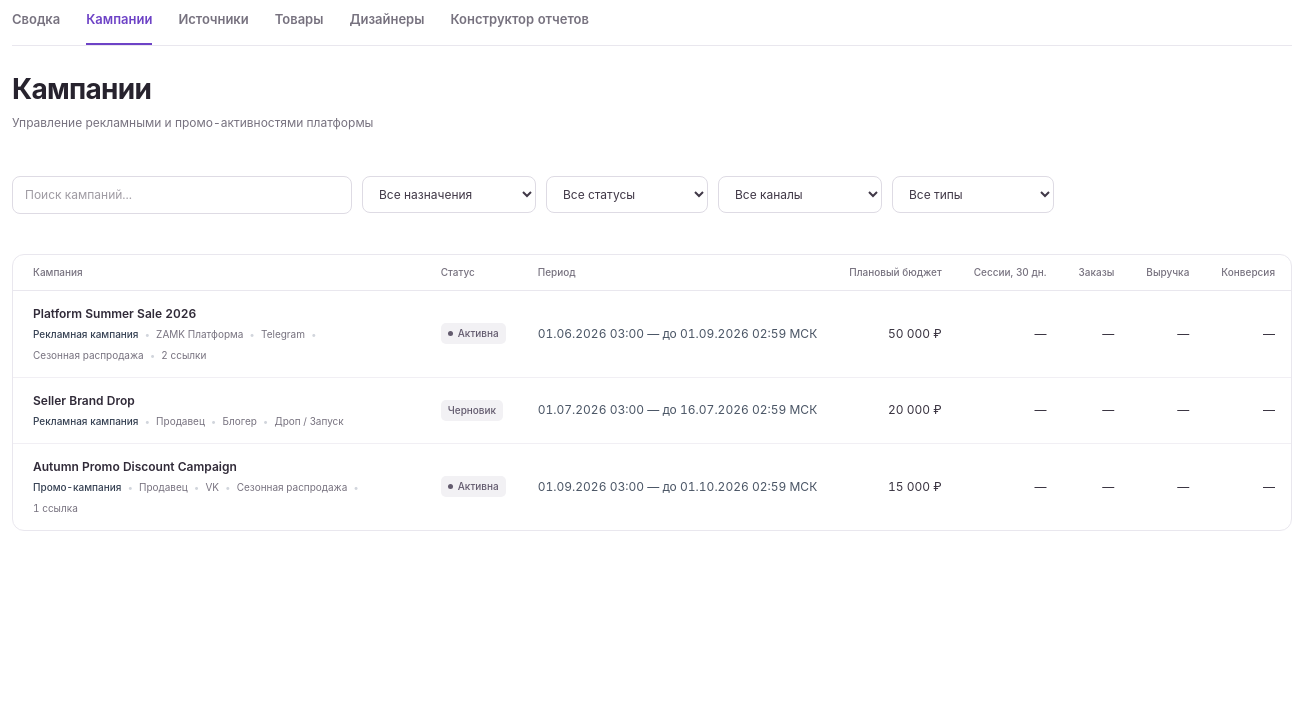
Admin Marketing Operational Workspace (ADS.2A / C2.4) › Campaign List (AdminMarketingCampaigns) › filters compose: search, purpose, status, channel, and type
The image size is (1292, 720).
Expected: the link "Platform Summer Sale 2026" is shown, [33,306,196,321]
# Filter by search
Type "seller" into the search field. click: (182, 195)
box: [12,176,352,214]
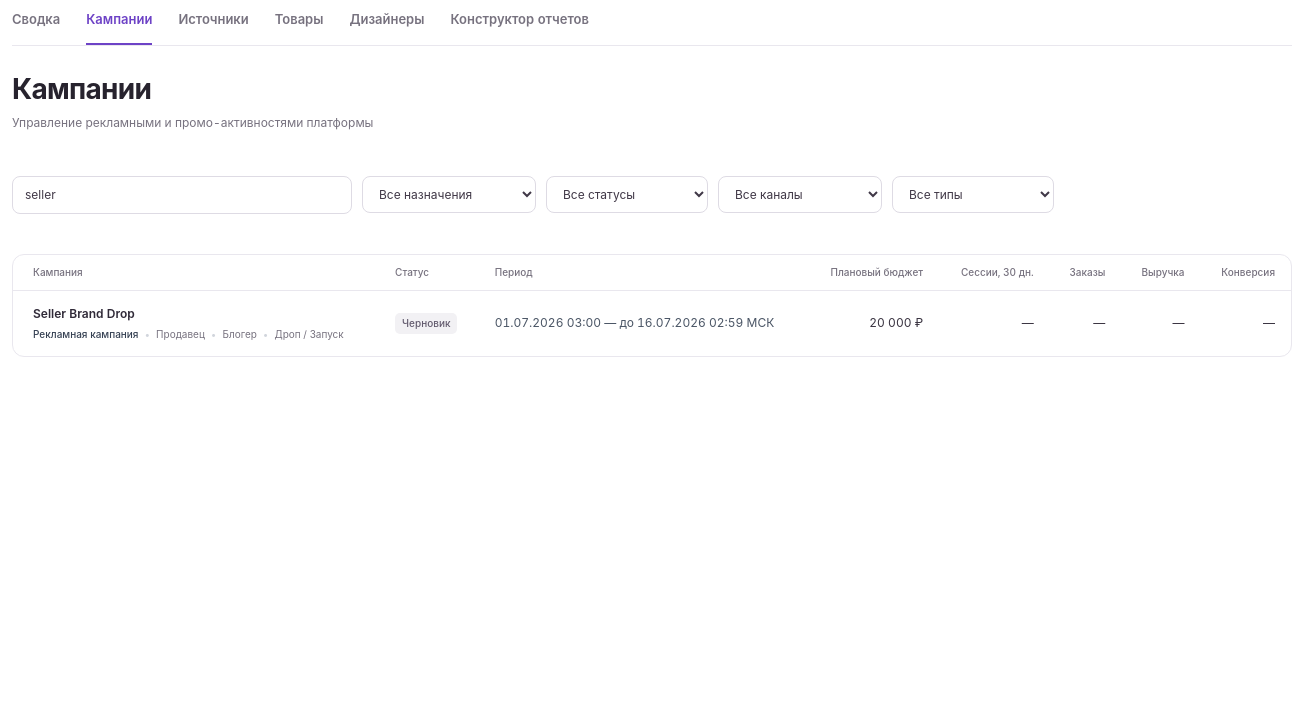
Expected: the link "Seller Brand Drop" is shown, [33,306,135,321]
Expected: the link "Platform Summer Sale 2026" is gone
# Filter by purpose
Clear the search field. click: (182, 195)
box: [12,176,352,214]
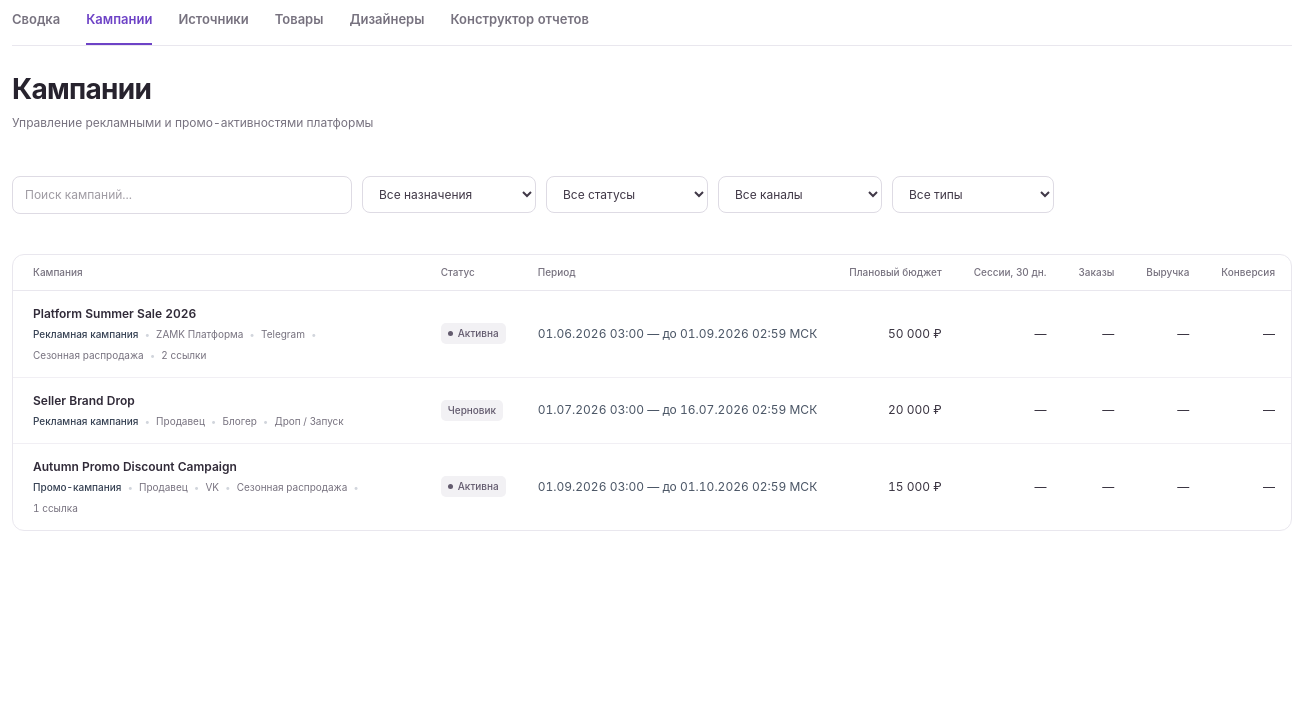
Select "Промо-кампании" in the dropdown named "Назначение". click: (449, 195)
box: [362,176,536,213]
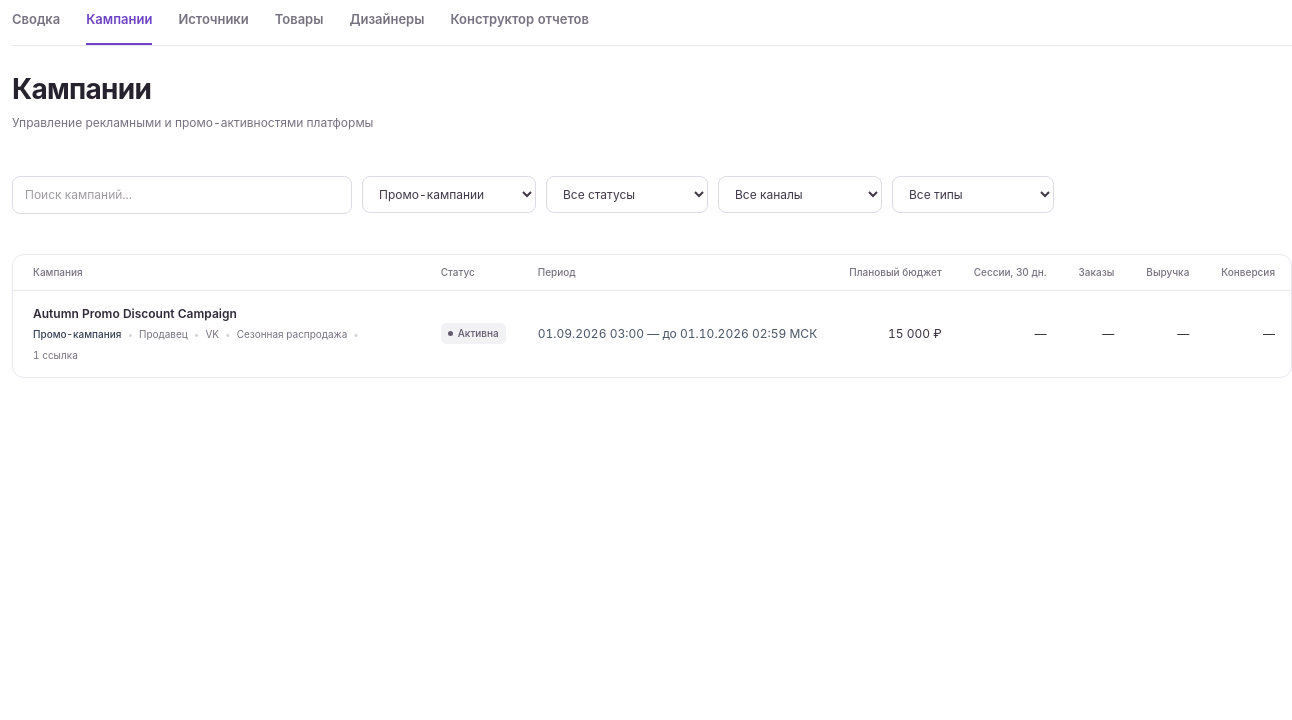
Expected: the link "Autumn Promo Discount Campaign" is shown, [33,306,237,321]
Expected: the link "Platform Summer Sale 2026" is gone
# Status filter with no results
Select "Черновик" in the dropdown named "Статус". click: (627, 195)
box: [546,176,708,213]
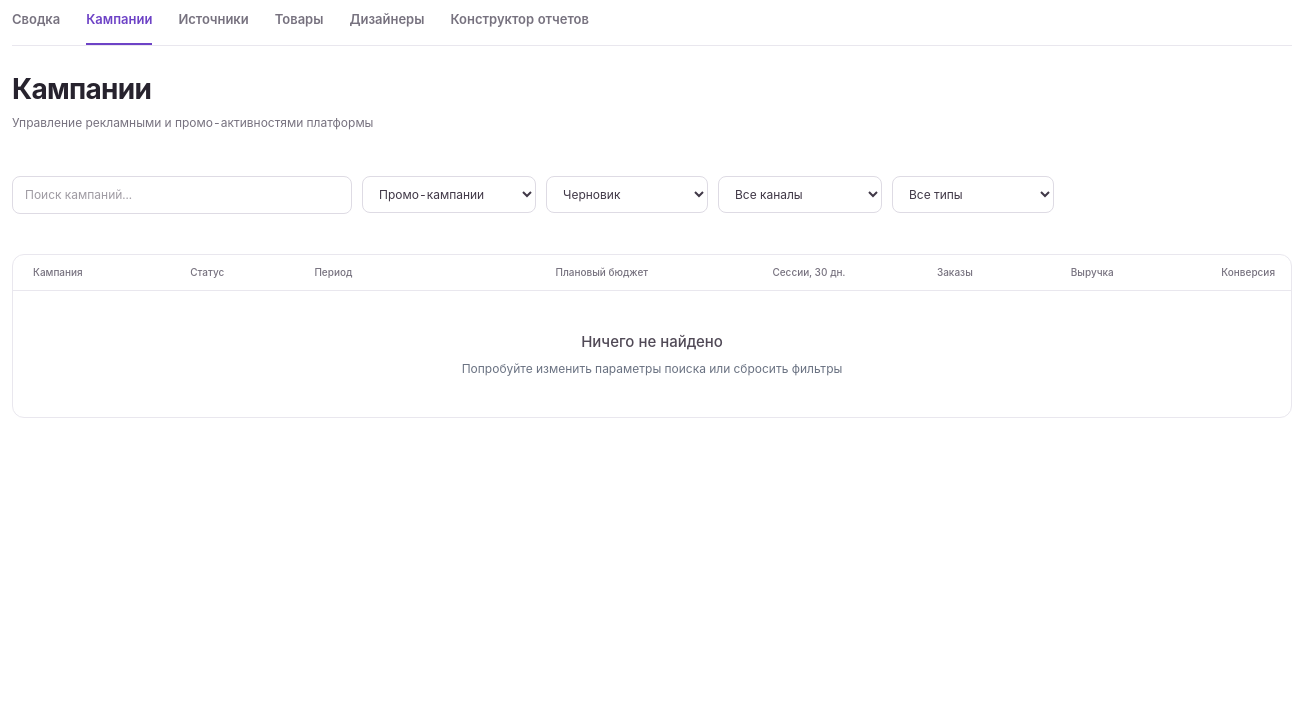
Expected: the text "Ничего не найдено" is shown, [581,332,723,351]
